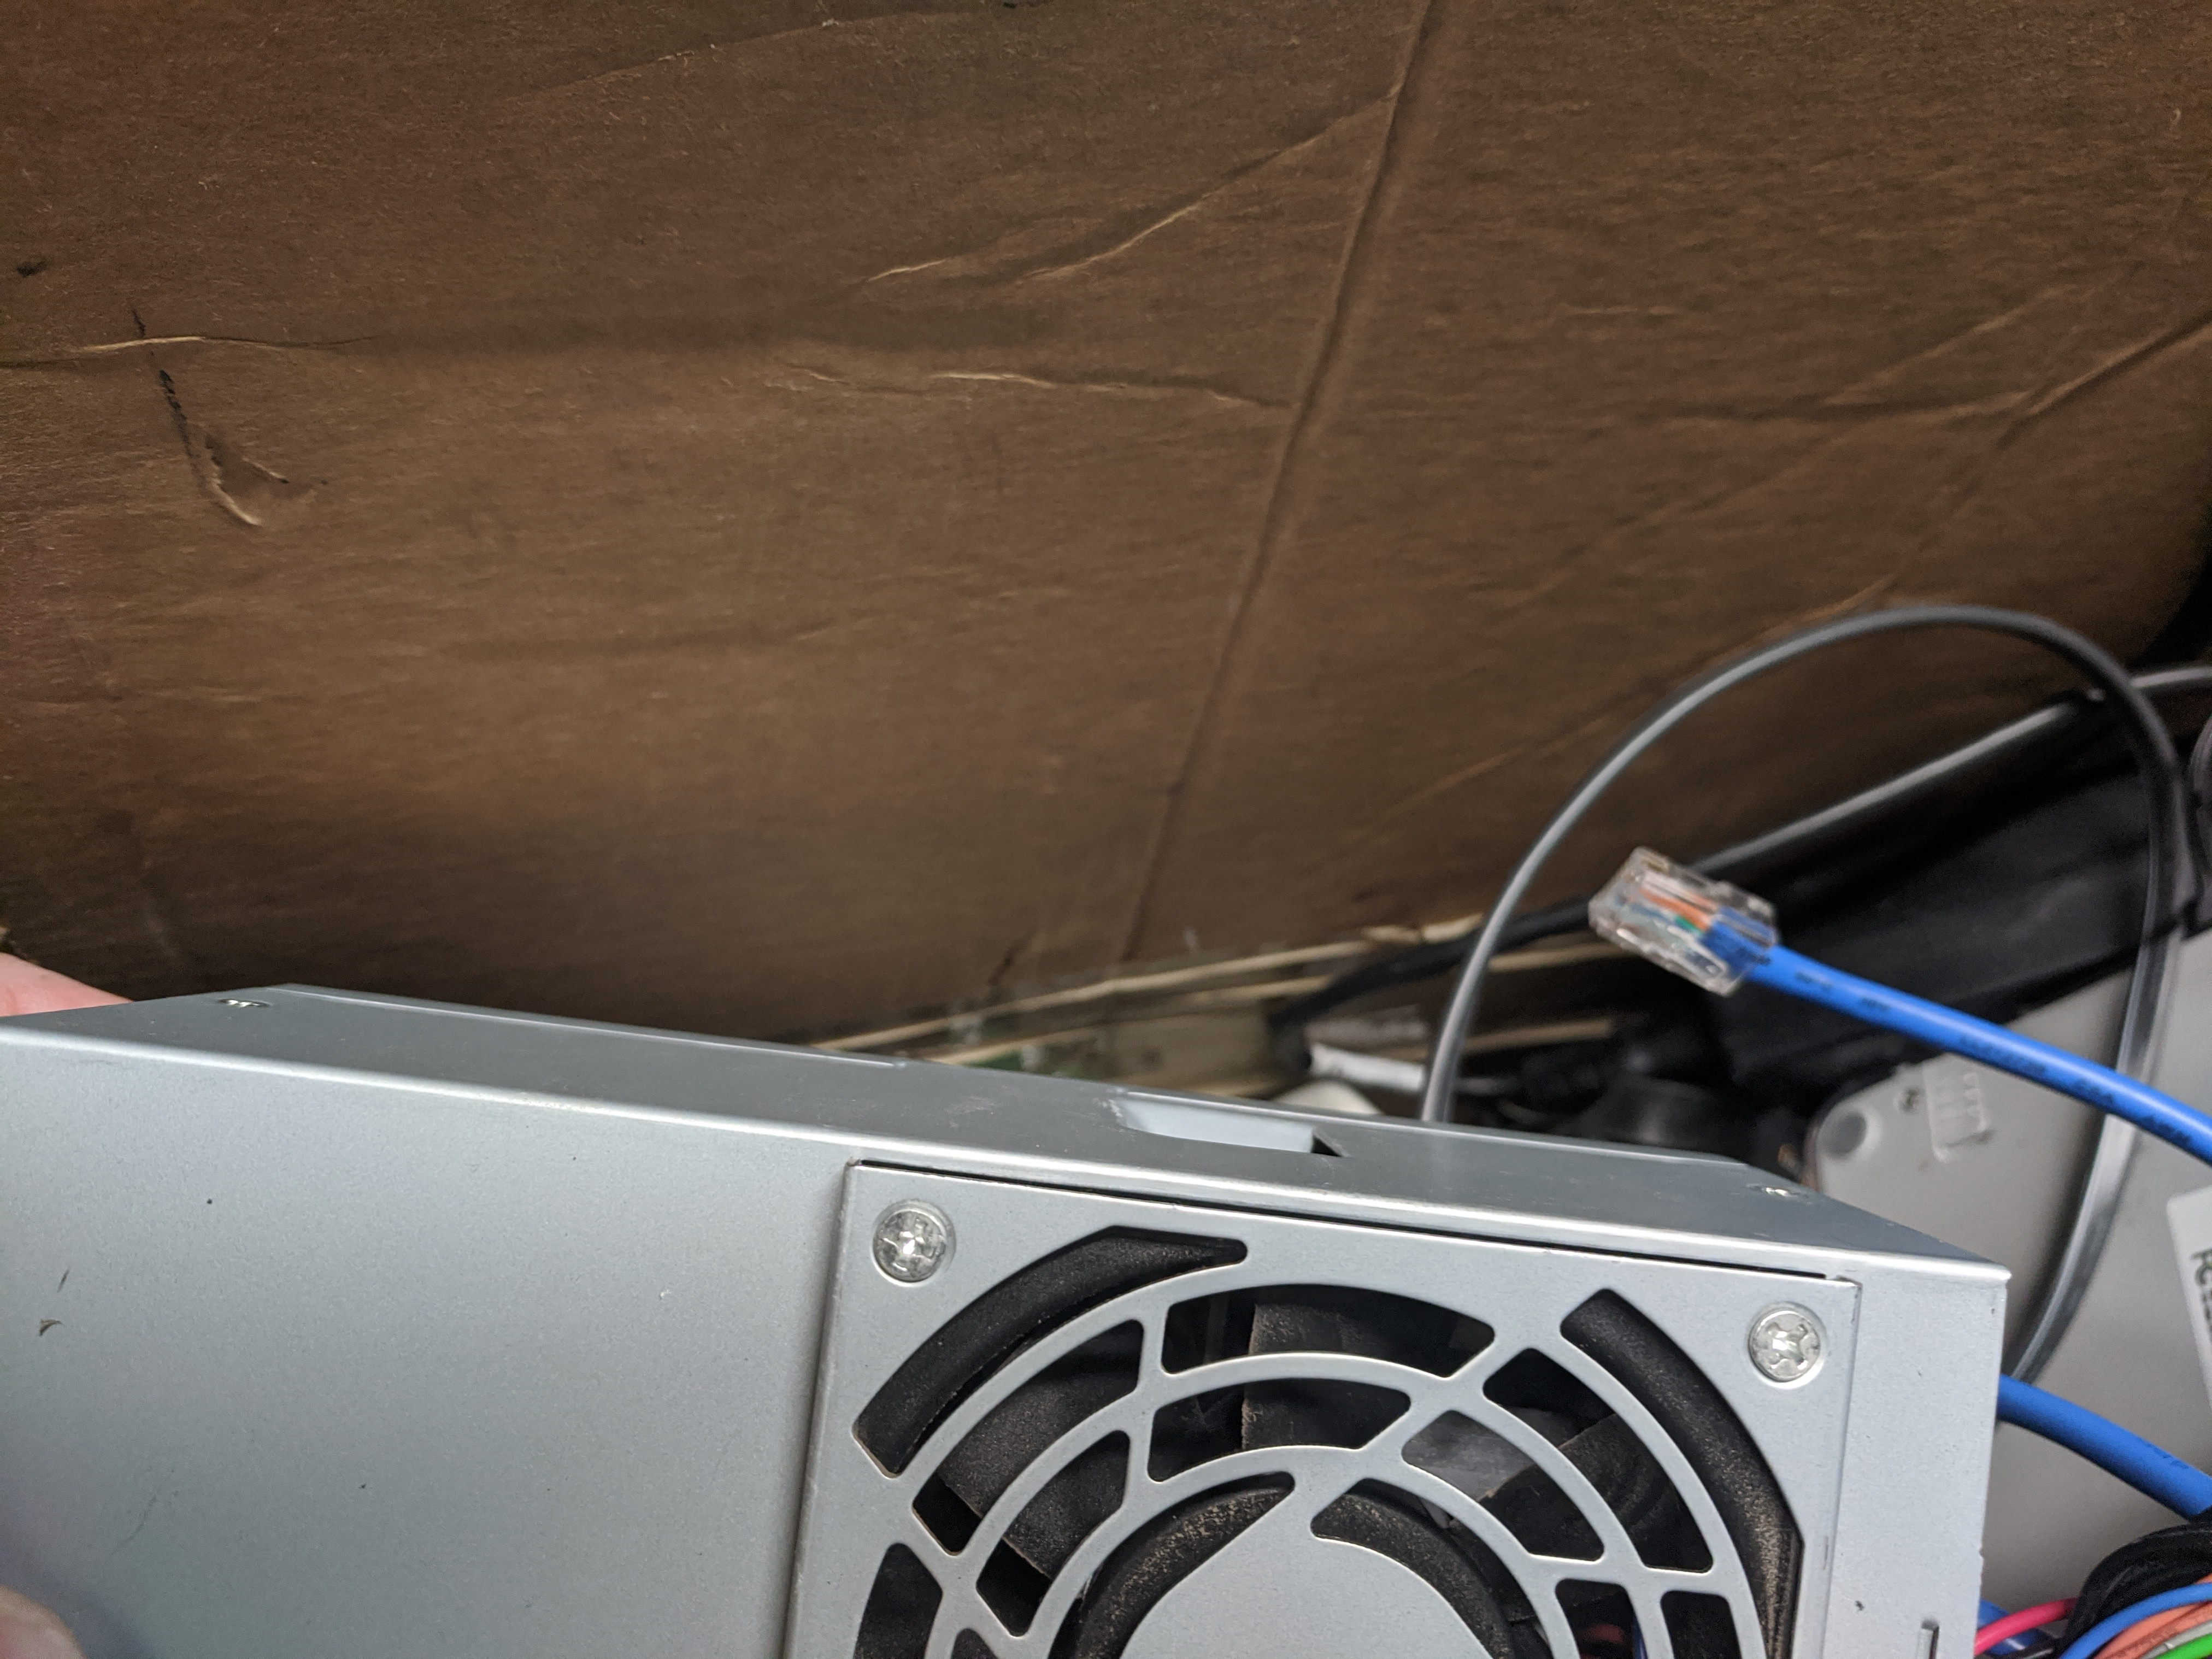cross_recessed_screw: (1738, 1295, 1836, 1392), (867, 1190, 949, 1291)
